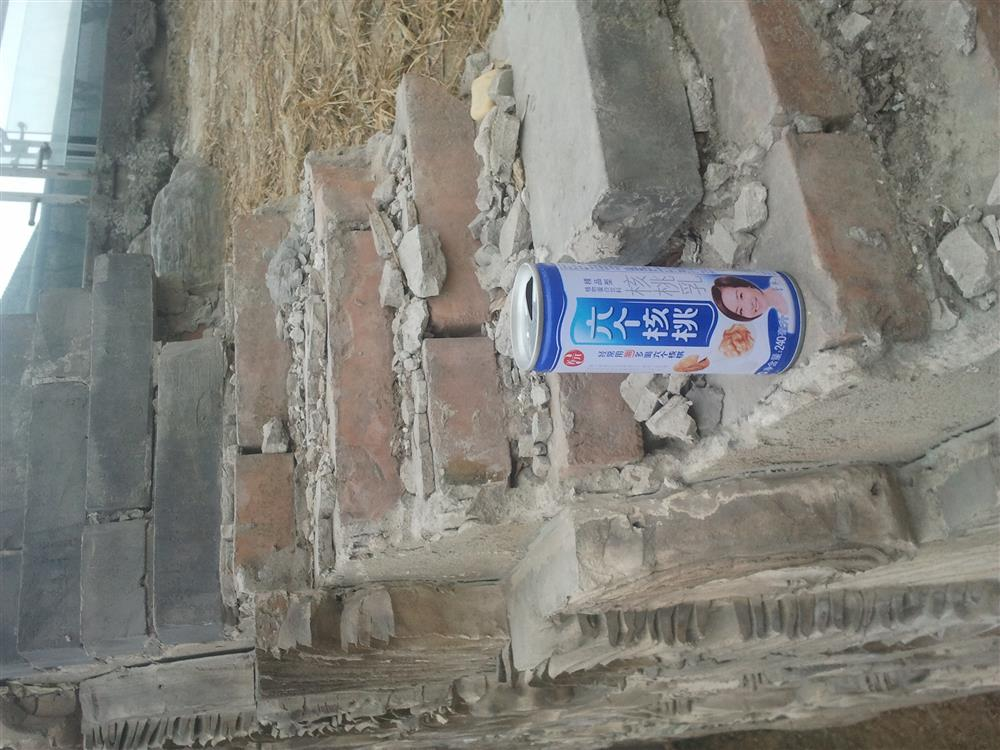Six_walnut: (500, 248, 814, 391)
